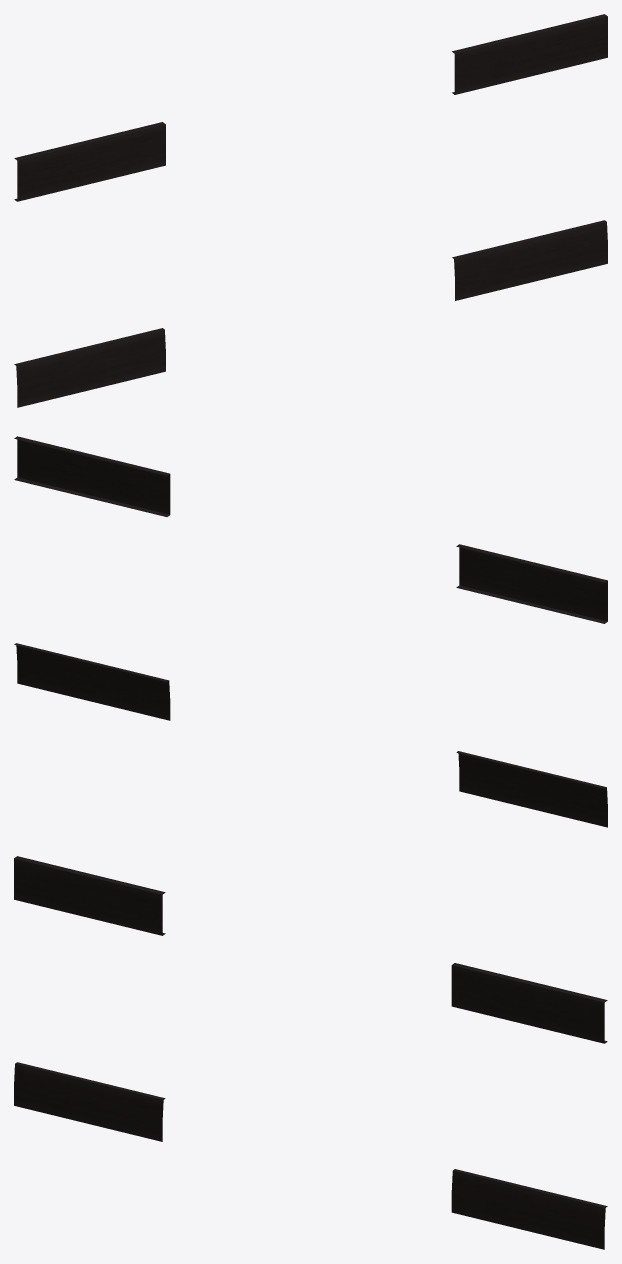
File: Plinth_Skirting.fbx
3 renders of one model, top to bottom at view 1: azimuth 30°, elevation 25°; view 2: azimuth 150°, elevation 25°; view 3: azimuth 330°, elevation 25°, orthographic.
Visible parts, largest first — view 1: Plinth_3m, Skirting_3m; view 2: Plinth_3m, Skirting_3m; view 3: Plinth_3m, Skirting_3m.
Part boxes in pixels (bbox=[...]): Plinth_3m: bbox=[14, 14, 607, 201]; Skirting_3m: bbox=[14, 220, 607, 407]; Plinth_3m: bbox=[14, 436, 607, 623]; Skirting_3m: bbox=[14, 643, 607, 827]; Plinth_3m: bbox=[14, 856, 607, 1043]; Skirting_3m: bbox=[14, 1062, 607, 1249].
Size of the model in its own units: 300 by 120 by 2.9.
